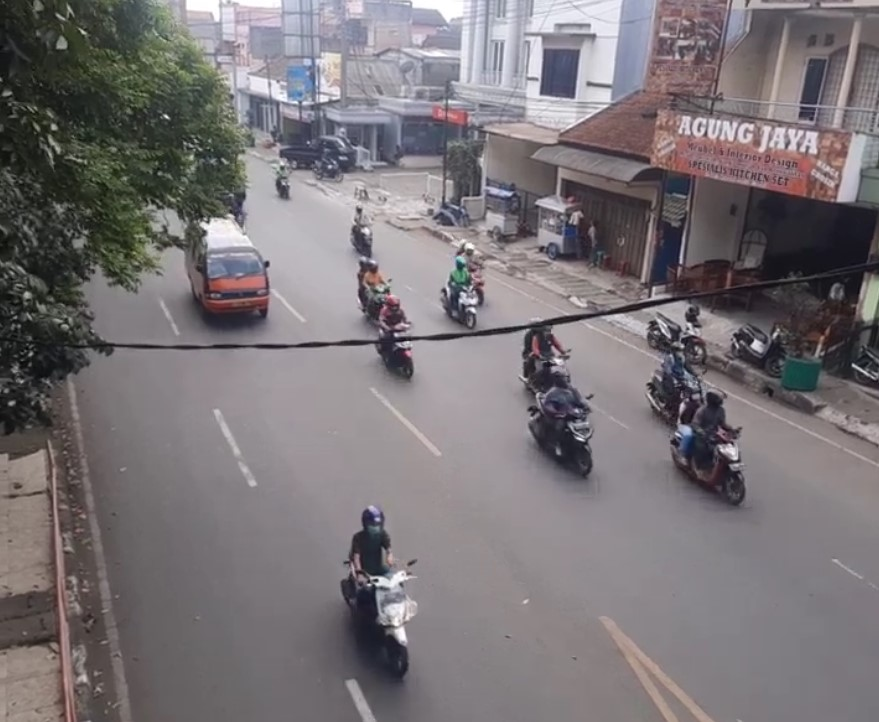mobil: (179, 212, 281, 325)
motor: (336, 506, 425, 681), (525, 368, 602, 481), (675, 387, 749, 504), (644, 345, 702, 428), (518, 315, 575, 391), (374, 298, 419, 385), (436, 254, 481, 330), (348, 260, 395, 326)
